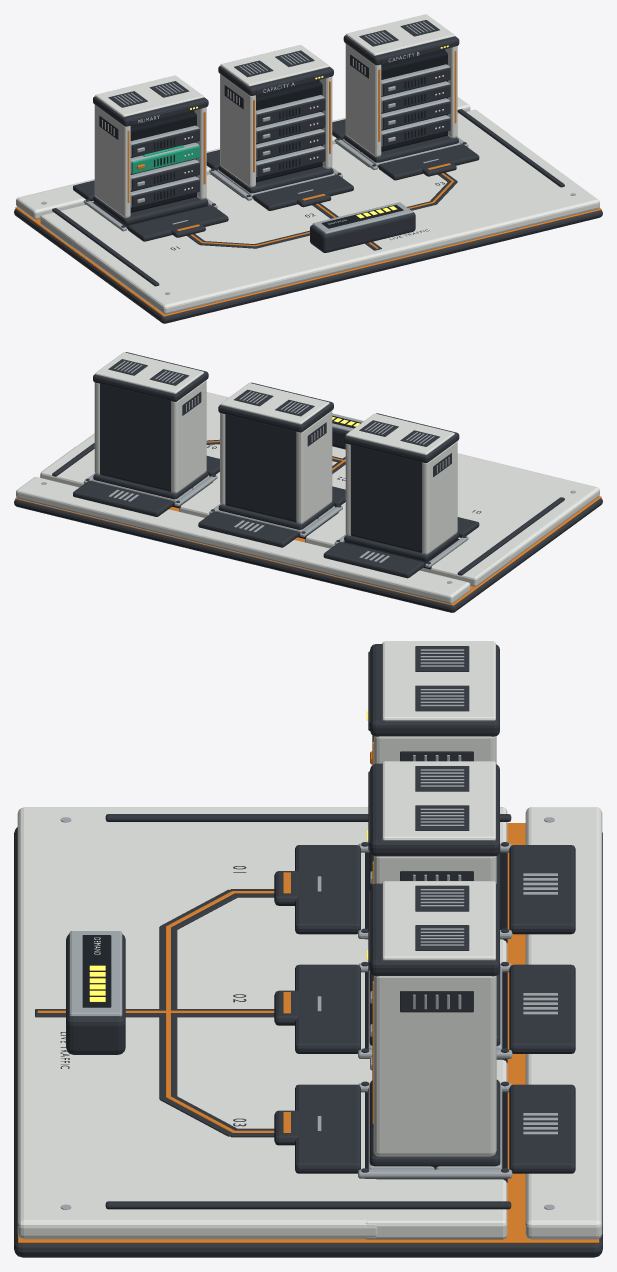
Rendered from capacity-bay.glb.
The picture shows the model from 3 angles, top to bottom: view 1: azimuth 30°, elevation 25°; view 2: azimuth 150°, elevation 25°; view 3: azimuth 270°, elevation 25°; orthographic projection. The views are drawn at different scales.
Parts seen in each view (by area): view 1: Station / Ceramic enamel.003, Station / Powder-coated graphite, Rack2 / Powder-coated graphite, Rack1 / Powder-coated graphite, Rack0 / Powder-coated graphite, Rack2 / Ceramic enamel.003, Rack0 / Ceramic enamel.003, Rack1 / Ceramic enamel.003, Station / Anodized amber, Switch / Powder-coated graphite, Rack2 / Rack cavity, Rack1 / Rack cavity (+10 smaller); view 2: Station / Ceramic enamel.003, Station / Powder-coated graphite, Rack0 / Powder-coated graphite, Rack1 / Powder-coated graphite, Rack2 / Powder-coated graphite, Rack1 / Ceramic enamel.003, Rack2 / Ceramic enamel.003, Rack0 / Ceramic enamel.003, Station / Satin aluminum, Station / Anodized amber, Station / Rack cavity; view 3: Station / Ceramic enamel.003, Station / Powder-coated graphite, Rack2 / Ceramic enamel.003, Rack2 / Powder-coated graphite, Station / Anodized amber, Rack0 / Ceramic enamel.003, Rack1 / Ceramic enamel.003, Rack1 / Powder-coated graphite, Rack0 / Powder-coated graphite, Station / Satin aluminum, Switch / Powder-coated graphite, Station / Rack cavity (+5 smaller).
Boxes of the visible parts, bbox=[...] form: Station / Ceramic enamel.003: bbox=[16, 97, 599, 314]; Station / Powder-coated graphite: bbox=[14, 109, 602, 323]; Rack2 / Powder-coated graphite: bbox=[343, 20, 459, 162]; Rack1 / Powder-coated graphite: bbox=[218, 50, 333, 193]; Rack0 / Powder-coated graphite: bbox=[93, 81, 208, 224]; Rack2 / Ceramic enamel.003: bbox=[345, 14, 457, 156]; Rack0 / Ceramic enamel.003: bbox=[94, 75, 206, 218]; Rack1 / Ceramic enamel.003: bbox=[220, 45, 332, 187]; Station / Anodized amber: bbox=[15, 163, 601, 316]; Switch / Powder-coated graphite: bbox=[310, 212, 415, 252]; Rack2 / Rack cavity: bbox=[381, 50, 447, 151]; Rack1 / Rack cavity: bbox=[256, 80, 322, 182]; Station / Ceramic enamel.003: bbox=[16, 392, 599, 604]; Station / Powder-coated graphite: bbox=[14, 439, 602, 612]; Rack0 / Powder-coated graphite: bbox=[343, 413, 459, 561]; Rack1 / Powder-coated graphite: bbox=[218, 382, 333, 529]; Rack2 / Powder-coated graphite: bbox=[93, 352, 208, 499]; Rack1 / Ceramic enamel.003: bbox=[220, 383, 332, 524]; Rack2 / Ceramic enamel.003: bbox=[94, 352, 206, 493]; Rack0 / Ceramic enamel.003: bbox=[345, 413, 457, 554]; Station / Satin aluminum: bbox=[41, 473, 575, 583]; Station / Anodized amber: bbox=[15, 440, 601, 605]; Station / Rack cavity: bbox=[172, 482, 459, 569]; Station / Ceramic enamel.003: bbox=[17, 807, 602, 1239]; Station / Powder-coated graphite: bbox=[14, 814, 602, 1257]; Rack2 / Ceramic enamel.003: bbox=[373, 881, 496, 1156]; Rack2 / Powder-coated graphite: bbox=[368, 883, 500, 1168]; Station / Anodized amber: bbox=[17, 823, 599, 1243]; Rack0 / Ceramic enamel.003: bbox=[373, 641, 496, 764]; Rack1 / Ceramic enamel.003: bbox=[373, 761, 496, 883]; Rack1 / Powder-coated graphite: bbox=[368, 763, 500, 1045]; Rack0 / Powder-coated graphite: bbox=[368, 644, 500, 923]; Station / Satin aluminum: bbox=[60, 817, 557, 1209]; Switch / Powder-coated graphite: bbox=[66, 934, 125, 1054]; Station / Rack cavity: bbox=[365, 852, 507, 1182].
Size of the model in its own units: 31.7 by 8.83 by 18.7.
